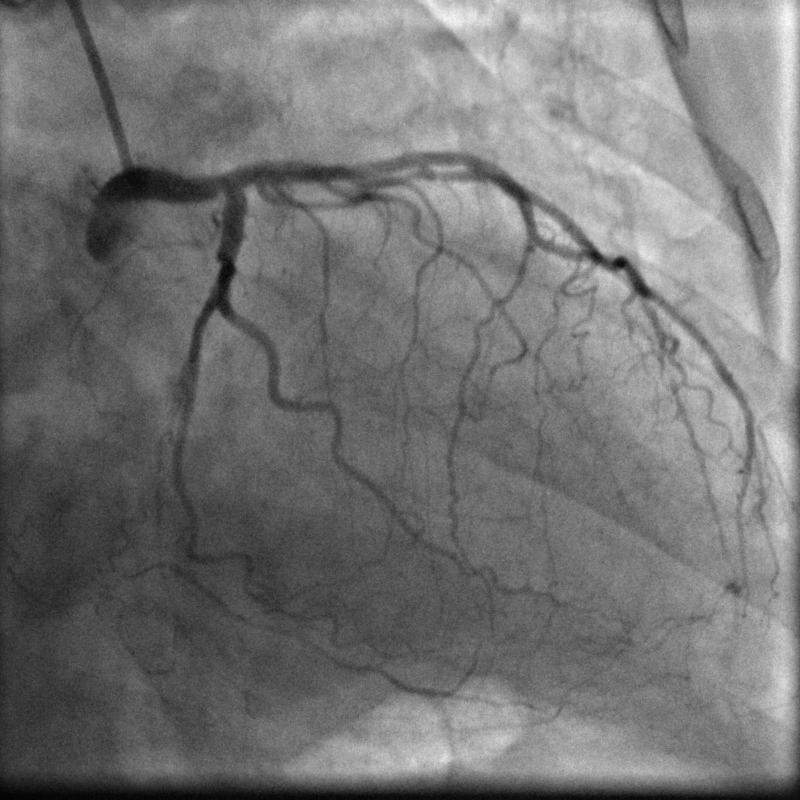Stenosis: (394, 164, 474, 189)
